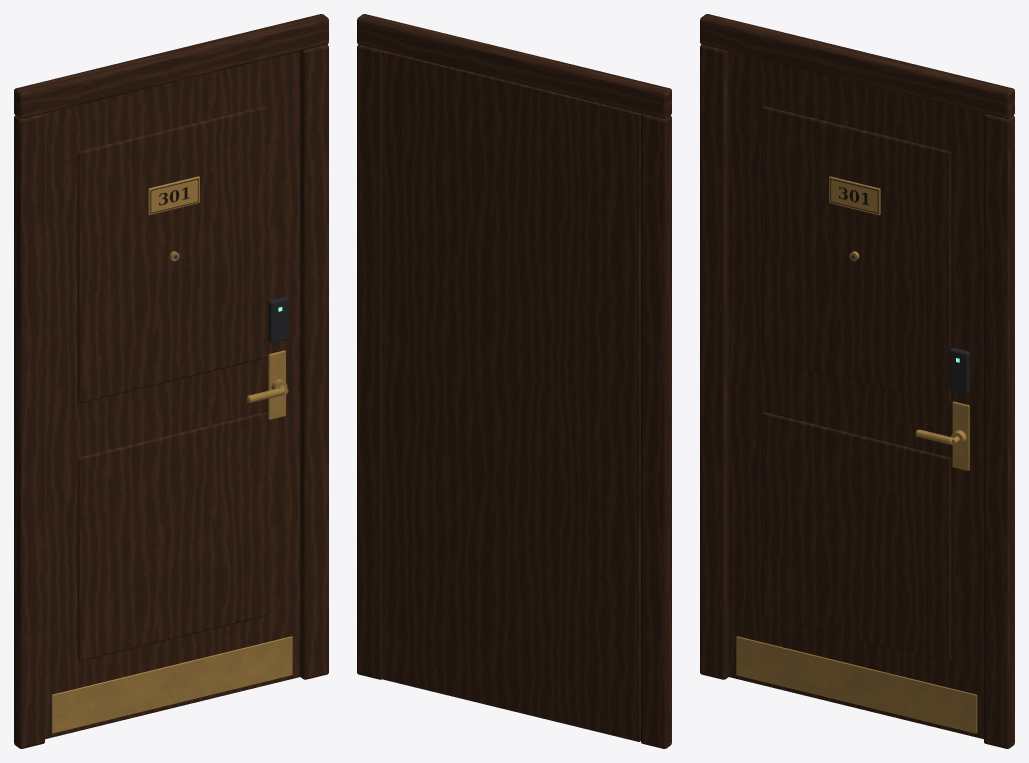
Rendered from модель двери номера.glb.
3 renders of one model, left to right at view 1: azimuth 30°, elevation 25°; view 2: azimuth 150°, elevation 25°; view 3: azimuth 330°, elevation 25°, orthographic.
Visible parts, largest first — view 1: Slab, Panel_Upper, Panel_Lower, Casing_L, Casing_R, Casing_Top, KickPlate, NumberPlate_Face, Handle_Backplate, CardLock; view 2: Slab, Casing_L, Casing_R, Casing_Top; view 3: Slab, Panel_Upper, Panel_Lower, Casing_R, Casing_L, Casing_Top, KickPlate, NumberPlate_Face, Handle_Backplate, CardLock.
Boxes of the visible parts, x1,y1,x2,y2 form: Slab: (44,51,300,739); Panel_Upper: (77,106,267,403); Panel_Lower: (77,412,267,661); Casing_L: (14,113,44,748); Casing_R: (300,44,328,679); Casing_Top: (14,14,328,118); KickPlate: (51,636,292,733); NumberPlate_Face: (150,178,199,214); Handle_Backplate: (268,350,285,419); CardLock: (268,296,288,343); Slab: (382,50,641,741); Casing_L: (641,113,671,748); Casing_R: (357,44,383,679); Casing_Top: (357,14,671,118); Slab: (728,51,984,739); Panel_Upper: (761,106,951,403); Panel_Lower: (761,412,951,661); Casing_R: (984,113,1014,748); Casing_L: (700,44,728,679); Casing_Top: (700,14,1014,118); KickPlate: (736,636,977,733); NumberPlate_Face: (829,178,878,214); Handle_Backplate: (952,401,969,470); CardLock: (949,347,969,394).
Size of what is drawn, in the model's own units: 1.08 by 2.19 by 0.085.
Materials: 6 (3 with a texture image).
